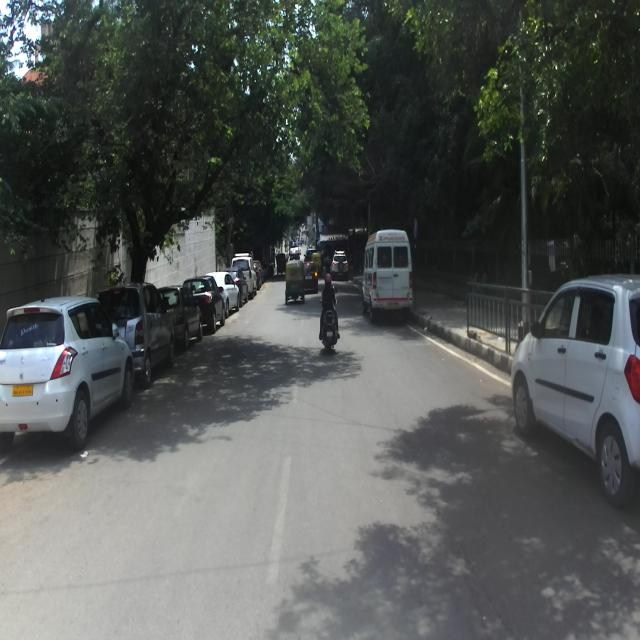car ahead at: (515, 278, 640, 500), (2, 297, 128, 445)
motorcycle ahead at: (317, 302, 341, 359)
